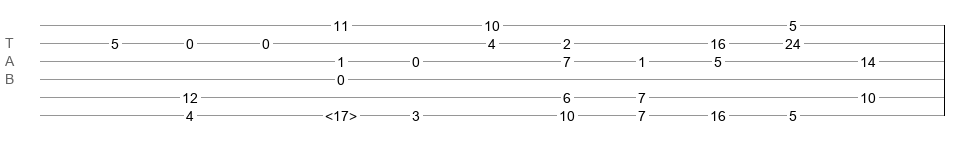0: (186, 36, 194, 46), (262, 36, 270, 46), (337, 72, 345, 82), (412, 54, 420, 64)
1: (337, 54, 345, 64), (638, 54, 646, 64)
10: (484, 18, 500, 28), (559, 108, 575, 118), (860, 90, 876, 100)
11: (333, 18, 349, 28)
12: (182, 90, 198, 100)
14: (860, 54, 876, 64)
16: (710, 36, 726, 46), (710, 108, 726, 118)
2: (563, 36, 571, 46)
24: (785, 36, 801, 46)
3: (412, 108, 420, 118)
4: (186, 108, 194, 118), (488, 36, 496, 46)
5: (111, 36, 119, 46), (714, 54, 722, 64), (789, 108, 797, 118), (789, 18, 797, 28)
6: (563, 90, 571, 100)
7: (563, 54, 571, 64), (638, 90, 646, 100), (638, 108, 646, 118)
harmonic: (325, 108, 357, 118)
